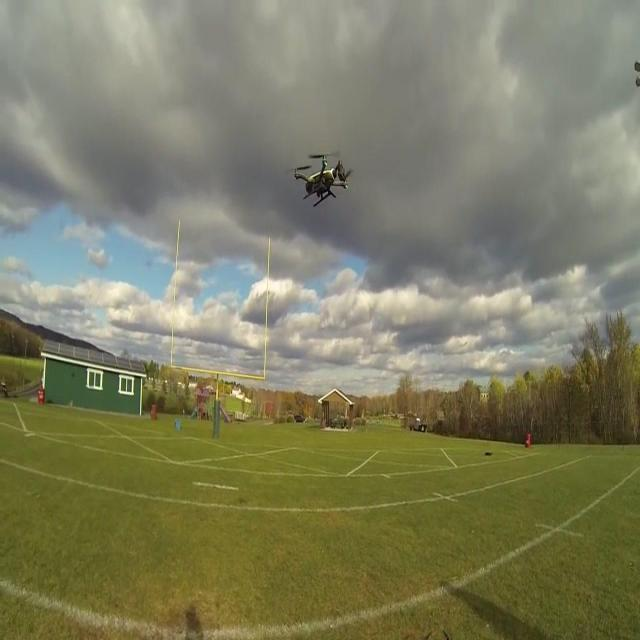drone: (289, 148, 353, 216)
